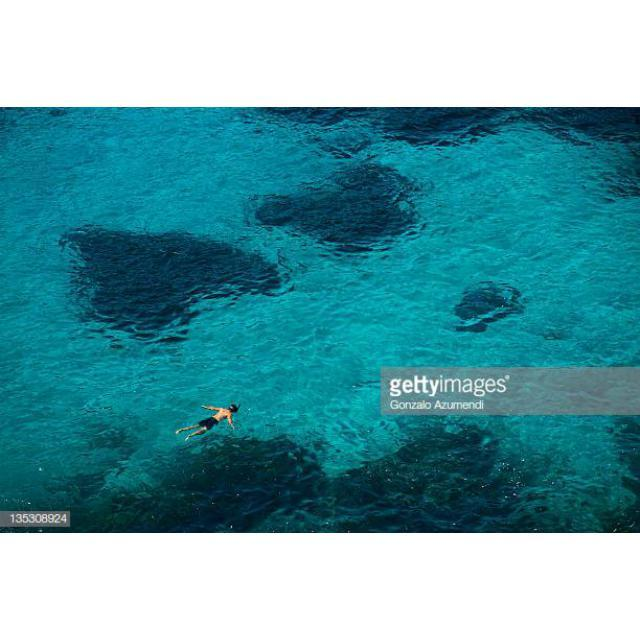human: (175, 398, 239, 440)
